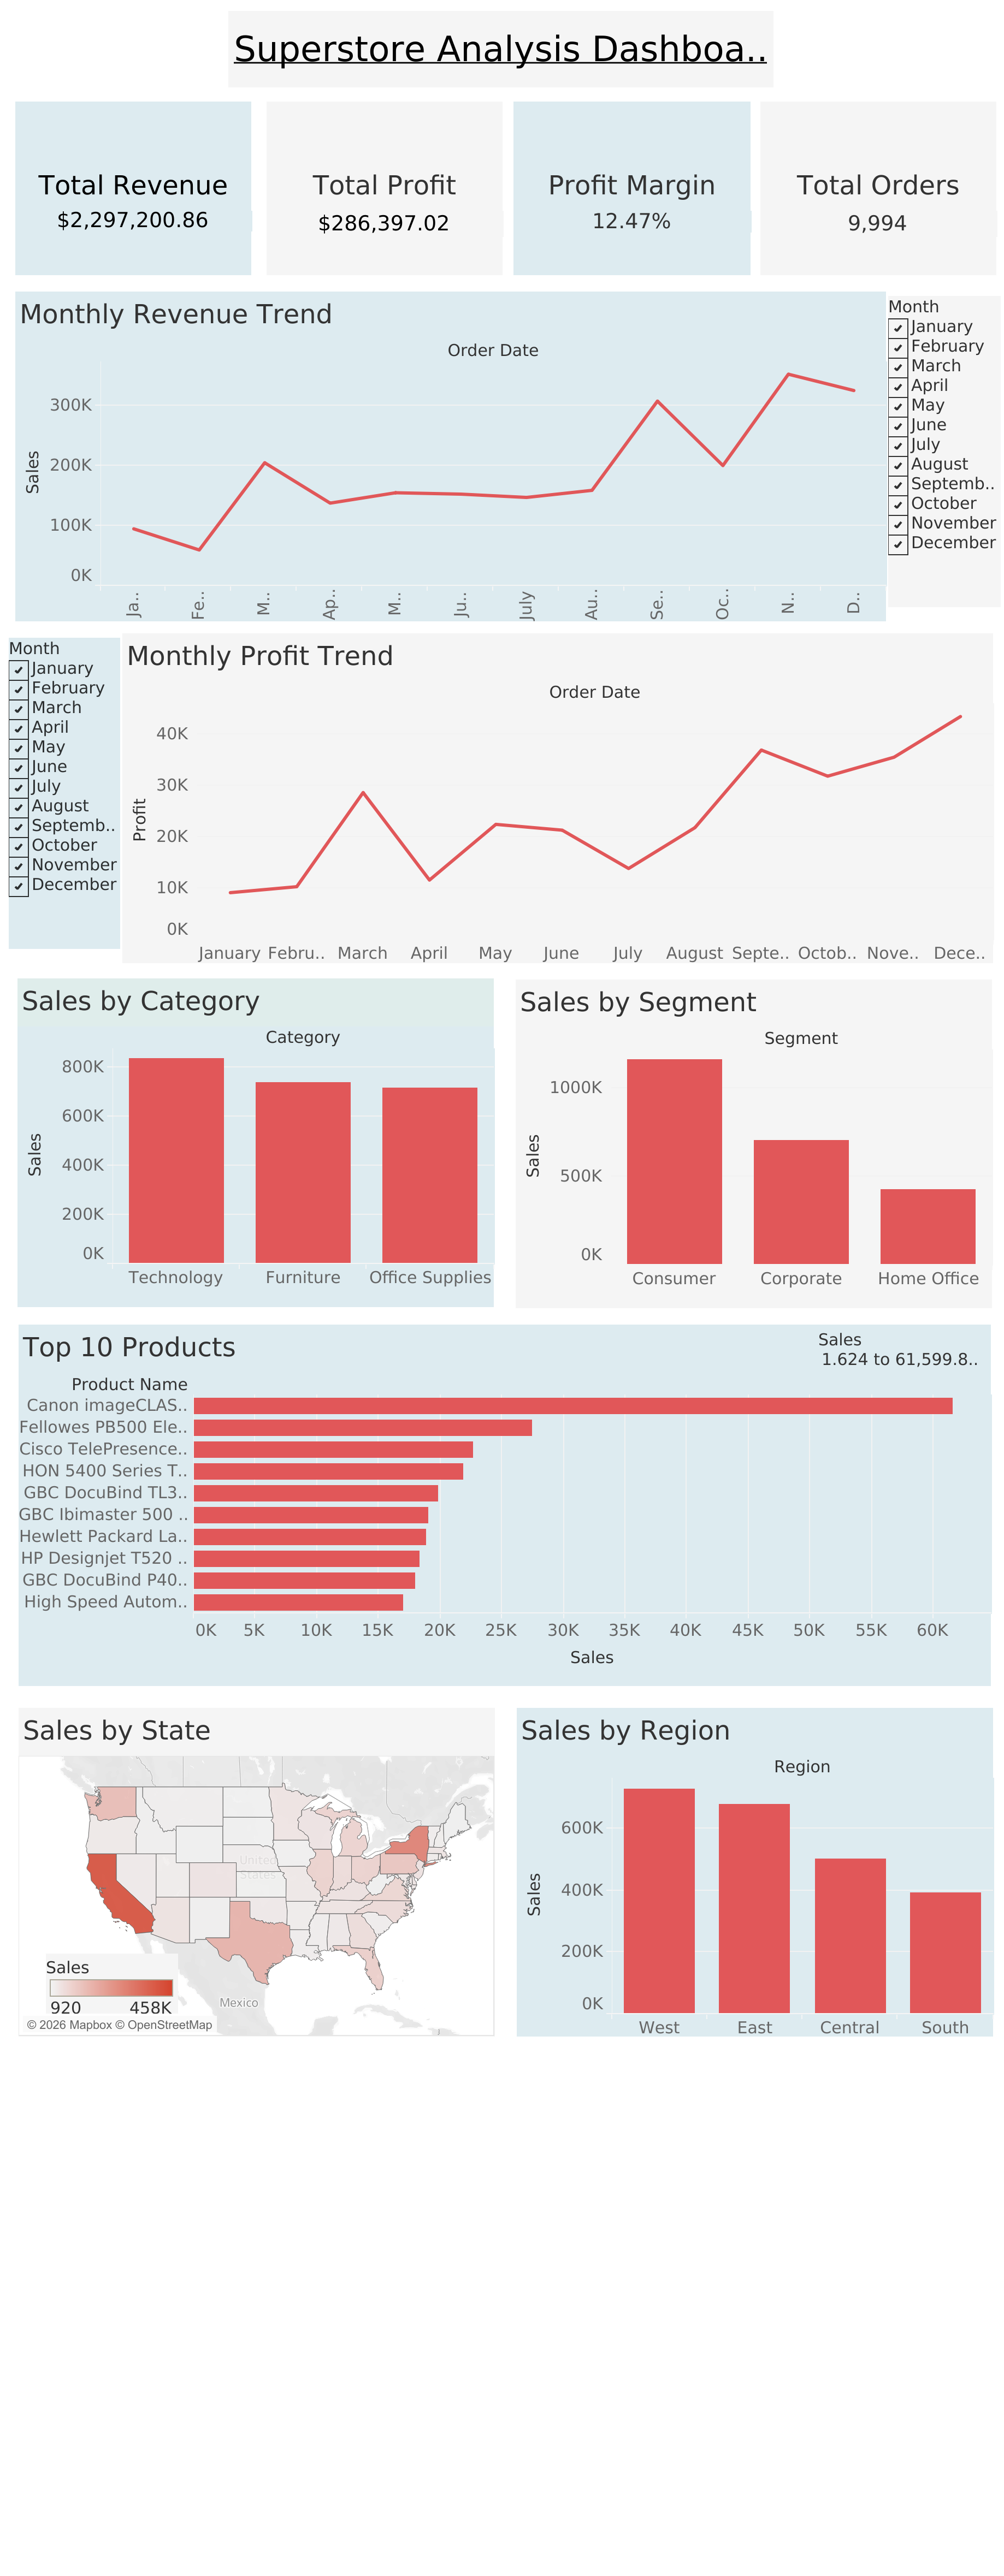

Layout of this report page (visuals, bound fields, positions):
{"tool":"tableau","page":{"name":"Dashboard 1","canvas":[920,2360],"ordinal":0},"visuals":[{"type":"text","box":[209,10,499,70]},{"type":"worksheet","title":"Total Revenue","mark":"Text","box":[9,88,226,169]},{"type":"worksheet","title":"Total Profit","mark":"Automatic","box":[239,88,226,169]},{"type":"worksheet","title":"Profit Margin","mark":"Automatic","box":[465,88,227,169]},{"type":"worksheet","title":"Total Orders","mark":"Automatic","box":[691,88,226,169]},{"type":"worksheet","title":"Monthly Revenue","mark":"Line","rows":["Sales"],"cols":["Order Date"],"box":[14,267,797,302]},{"type":"filter","title":"Monthly Revenue","param":"[federated.187vxdt06v443a13pa9xn12fygm7].[mn:Order Date:ok]","box":[813,271,103,285]},{"type":"worksheet","title":"Monthly Profit","mark":"Line","rows":["Profit"],"cols":["Order Date"],"box":[112,580,797,302]},{"type":"filter","title":"Monthly Profit","param":"[federated.187vxdt06v443a13pa9xn12fygm7].[mn:Order Date:ok]","box":[8,584,102,285]},{"type":"worksheet","title":"Sales by Category","mark":"Bar","rows":["Sales"],"cols":["Category"],"box":[16,896,436,301]},{"type":"worksheet","title":"Sales by Segent","mark":"Bar","rows":["Sales"],"cols":["Segment"],"box":[472,897,436,301]},{"type":"worksheet","title":"Top 10 Products","mark":"Automatic","rows":["Product Name"],"cols":["Sales"],"box":[17,1213,890,331]},{"type":"filter","title":"Top 10 Products","param":"[federated.187vxdt06v443a13pa9xn12fygm7].[sum:Sales:qk]","box":[749,1217,152,57]},{"type":"worksheet","title":"Sales by State","mark":"Automatic","box":[17,1564,436,301]},{"type":"worksheet","title":"Sales by Region","mark":"Automatic","rows":["Sales"],"cols":["Region"],"box":[473,1564,436,301]},{"type":"legend","title":"Sales by State","param":"[federated.187vxdt06v443a13pa9xn12fygm7].[sum:Sales:qk]","box":[42,1789,121,55]}]}

Visuals, with their boxes in screenshot pixels (x1, y1, x2, y2), scaled from the page's 920x2360 canvas onto the 1004x2576 screenshot:
text: (x1=228, y1=11, x2=772, y2=87)
"Total Revenue" worksheet (Text marks): (x1=10, y1=96, x2=256, y2=281)
"Total Profit" worksheet: (x1=261, y1=96, x2=507, y2=281)
"Profit Margin" worksheet: (x1=507, y1=96, x2=755, y2=281)
"Total Orders" worksheet: (x1=754, y1=96, x2=1001, y2=281)
"Monthly Revenue" worksheet (Line marks): (x1=15, y1=292, x2=885, y2=621)
"Monthly Revenue" filter: (x1=887, y1=296, x2=1000, y2=607)
"Monthly Profit" worksheet (Line marks): (x1=122, y1=633, x2=992, y2=963)
"Monthly Profit" filter: (x1=9, y1=638, x2=120, y2=948)
"Sales by Category" worksheet (Bar marks): (x1=17, y1=978, x2=493, y2=1307)
"Sales by Segent" worksheet (Bar marks): (x1=515, y1=979, x2=991, y2=1308)
"Top 10 Products" worksheet: (x1=19, y1=1324, x2=990, y2=1685)
"Top 10 Products" filter: (x1=817, y1=1328, x2=983, y2=1391)
"Sales by State" worksheet: (x1=19, y1=1707, x2=494, y2=2035)
"Sales by Region" worksheet: (x1=516, y1=1707, x2=992, y2=2035)
"Sales by State" legend: (x1=46, y1=1952, x2=178, y2=2013)
